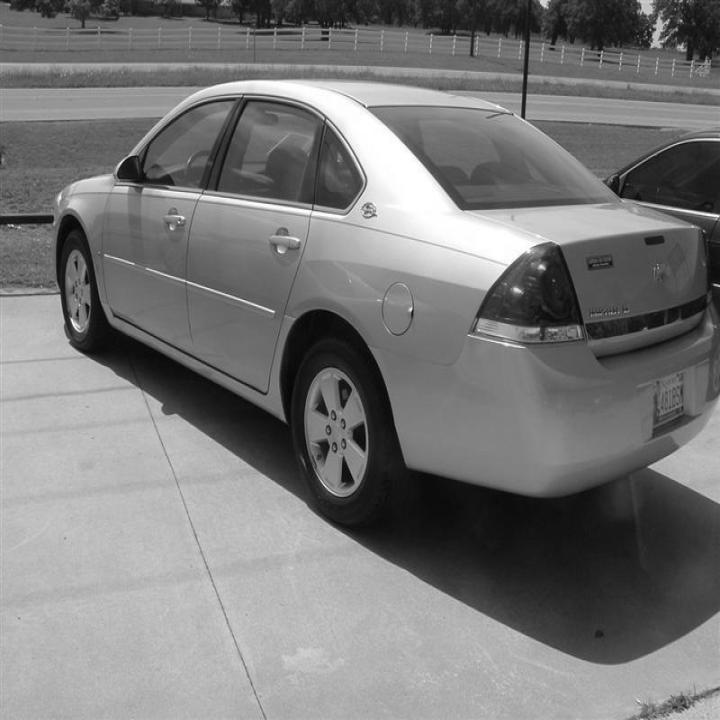car: (50, 77, 718, 529), (600, 127, 719, 319)
plat: (654, 371, 683, 430)
